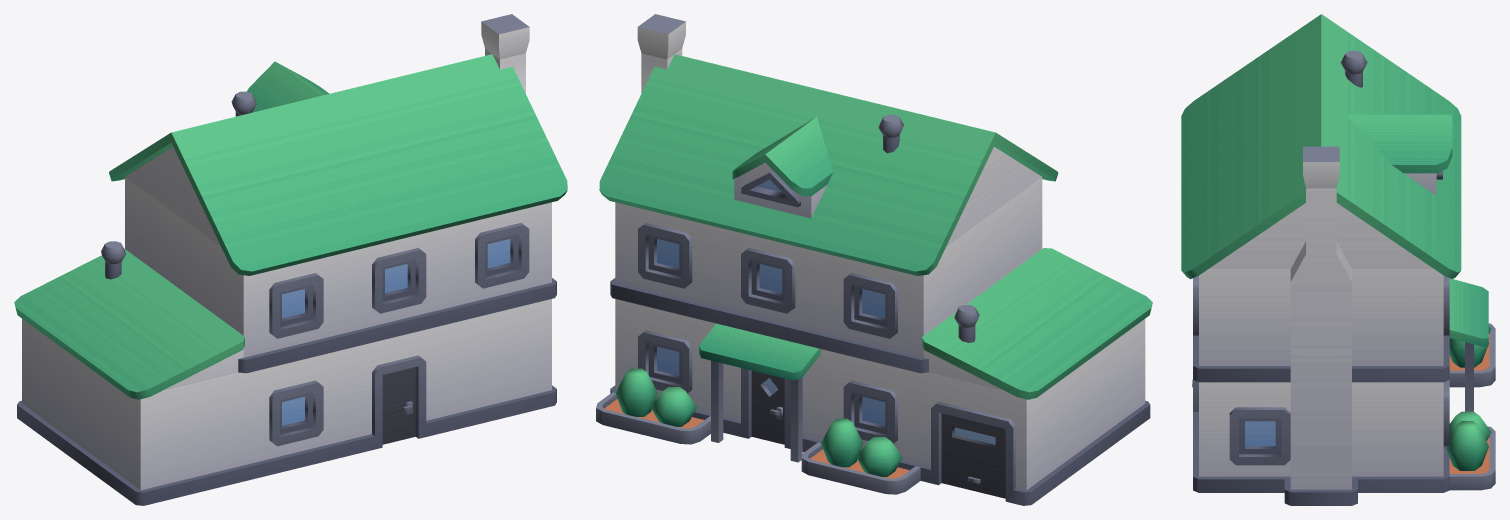
Rendered from open-road.glb.
3 renders of one model, left to right at view 1: azimuth 30°, elevation 25°; view 2: azimuth 150°, elevation 25°; view 3: azimuth 270°, elevation 25°, orthographic. The views are drawn at different scales.
Visible parts, largest first — view 1: building-type-d; view 2: building-type-d; view 3: building-type-d.
Boxes of the visible parts, x1,y1,x2,y2 form: building-type-d: (14,14,567,505); building-type-d: (596,14,1152,505); building-type-d: (1181,14,1495,505).
Size of the model in its own units: 1.76 by 1.24 by 1.03.
1 material, 1 textured.
